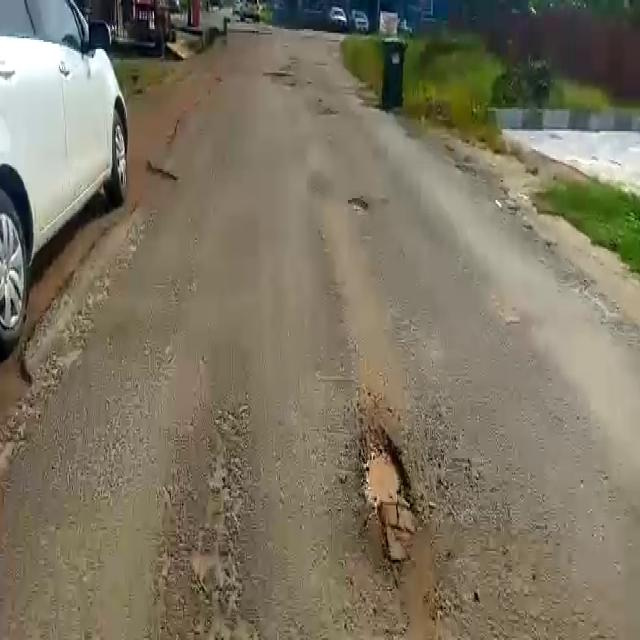Pothole: (348, 427, 426, 566), (348, 196, 368, 215)
